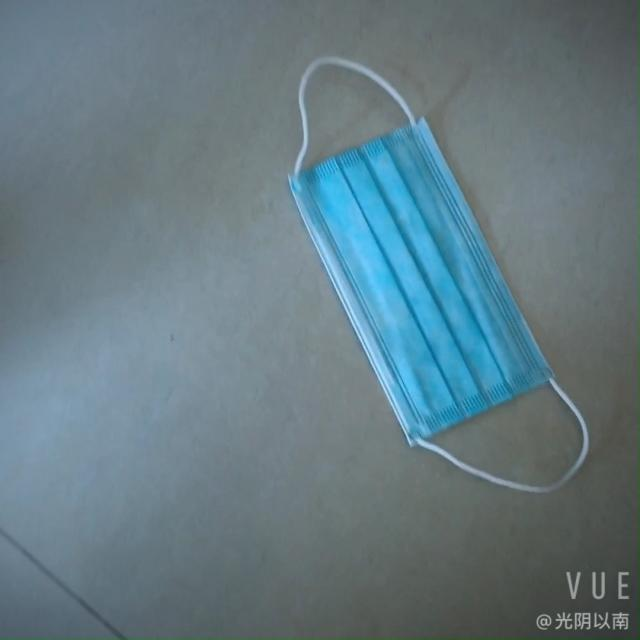face mask: (289, 112, 573, 459)
